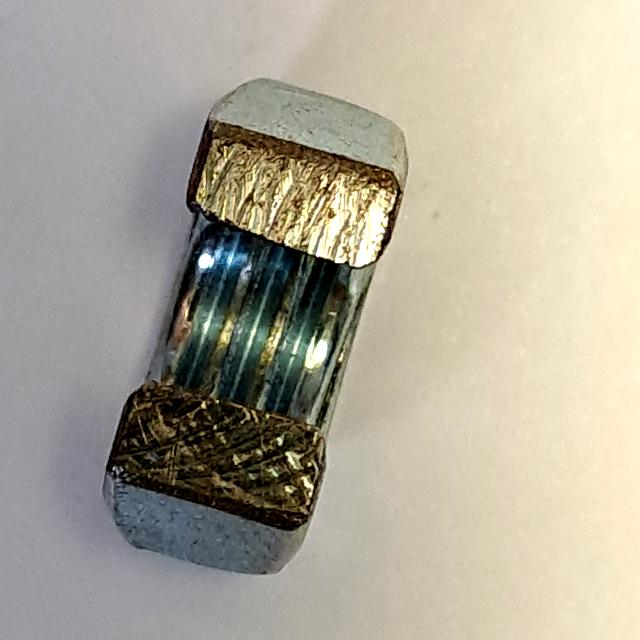Side-Fracture: (91, 66, 421, 590)
